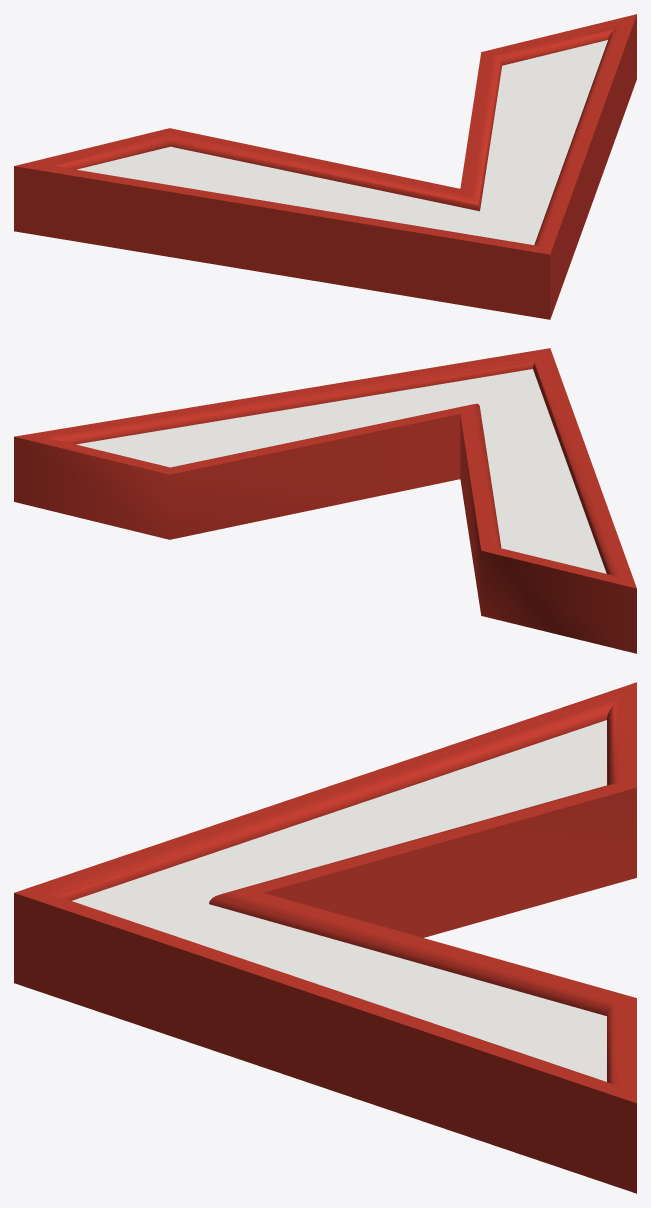
File: Arrows.glb
The picture shows the model from 3 angles, top to bottom: view 1: azimuth 30°, elevation 25°; view 2: azimuth 150°, elevation 25°; view 3: azimuth 270°, elevation 25°; orthographic projection. The views are drawn at different scales.
Visible parts, largest first — view 1: Body1; view 2: Body1; view 3: Body1.
Boxes of the visible parts, <box> form: Body1: <box>14,14,636,319</box>; Body1: <box>14,348,636,653</box>; Body1: <box>14,682,636,1193</box>.
Bounding box in the file's own units: 0.08 × 0.008 × 0.05.
